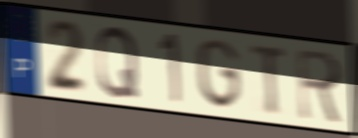1: (157, 32, 182, 107)
2: (43, 19, 88, 95)
G: (194, 36, 244, 112)
Q: (94, 24, 141, 101)
R: (296, 46, 346, 128)
T: (249, 42, 289, 117)
